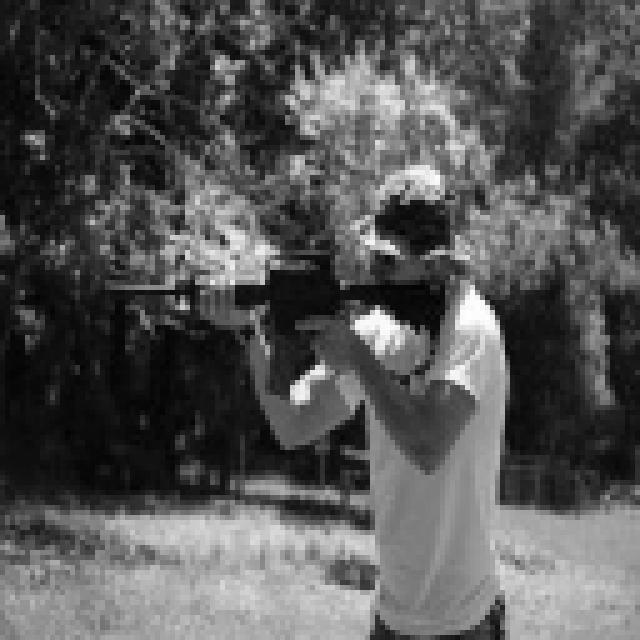Rifle: (93, 231, 464, 391)
